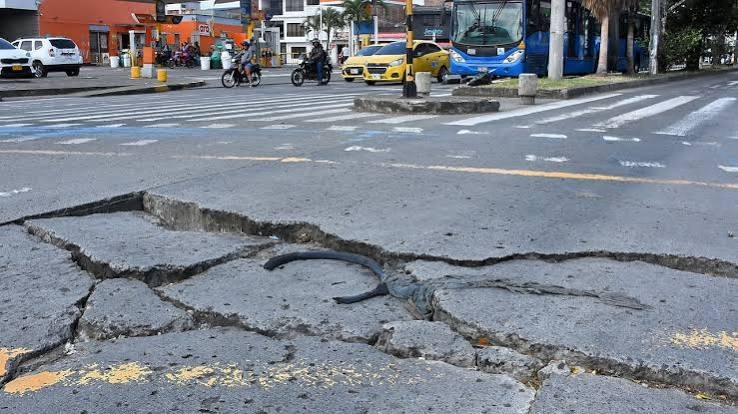car: (334, 39, 461, 86), (2, 36, 85, 76), (446, 45, 528, 82), (450, 31, 524, 71)
